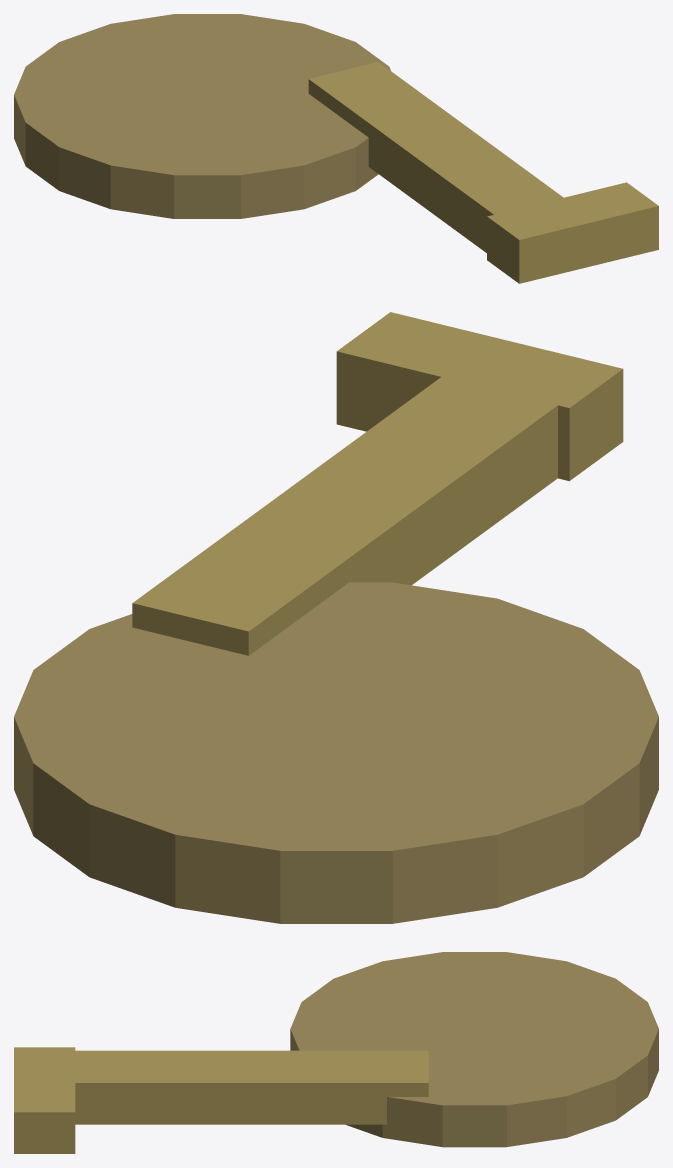
The model's file is keys.db12febb.glb.
3 views of the same model, one above another, from view 1: azimuth 30°, elevation 25°; view 2: azimuth 150°, elevation 25°; view 3: azimuth 270°, elevation 25° (orthographic). The views are drawn at different scales.
Parts seen in each view (by area): view 1: body; view 2: body; view 3: body.
Boxes of the visible parts, x1,y1,x2,y2 form: body: [14, 14, 658, 283]; body: [14, 312, 658, 923]; body: [14, 952, 658, 1153].
Size of the model in its own units: 0.2682 by 0.04 by 0.42.
